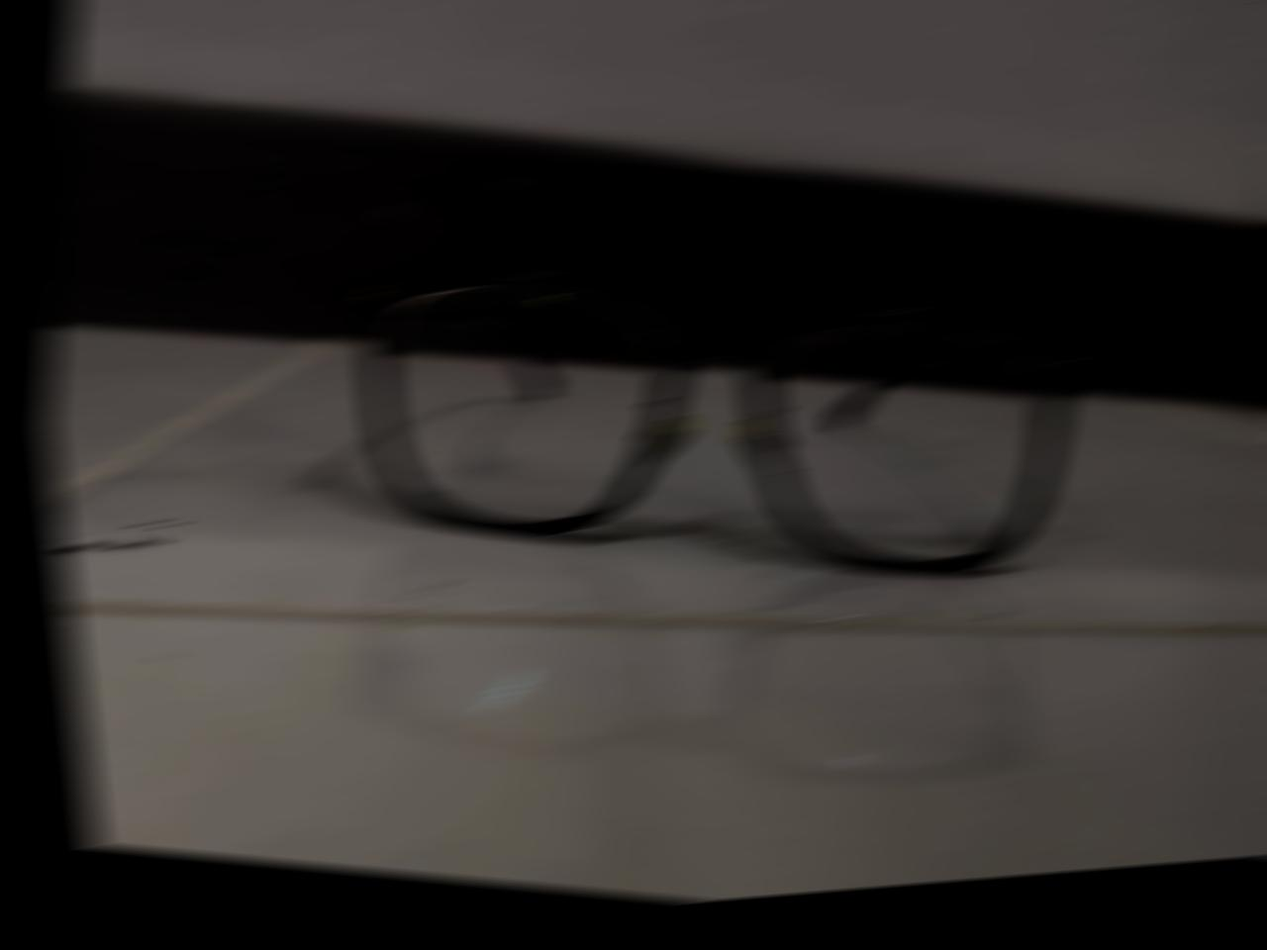glasses: (283, 177, 1148, 680)
